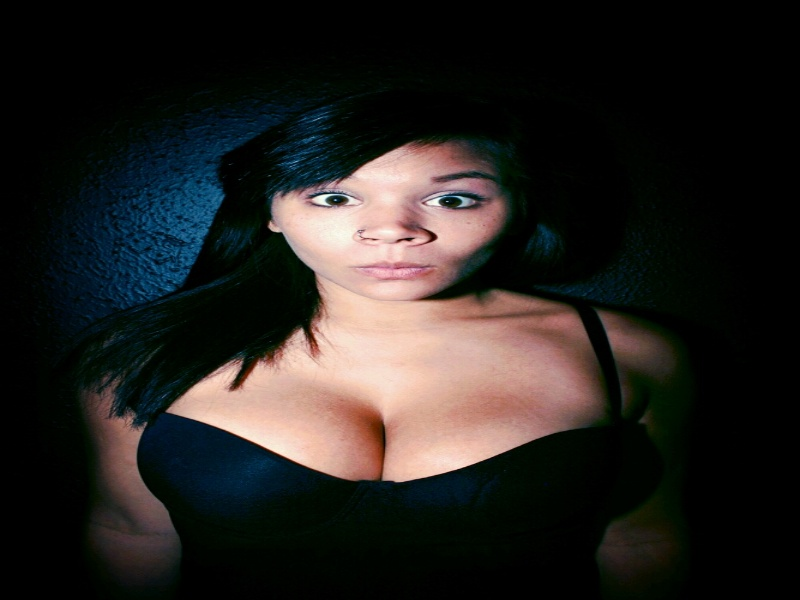face: (264, 129, 531, 309)
